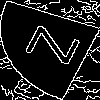Z: (24, 24, 94, 70)
